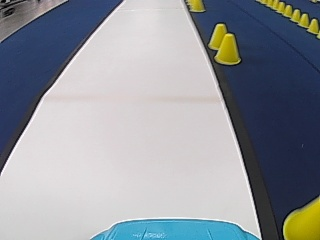cone: (283, 198, 318, 238), (215, 33, 241, 65), (208, 22, 228, 49), (307, 18, 319, 34), (189, 0, 204, 12), (298, 13, 309, 27), (291, 9, 300, 22), (283, 4, 292, 16), (277, 2, 285, 13)
